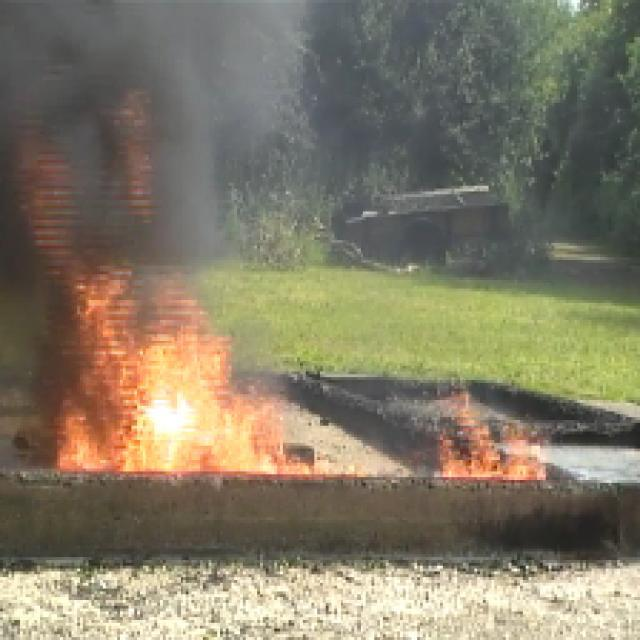Fire: (72, 332, 262, 474)
Smoke: (31, 9, 235, 269)
